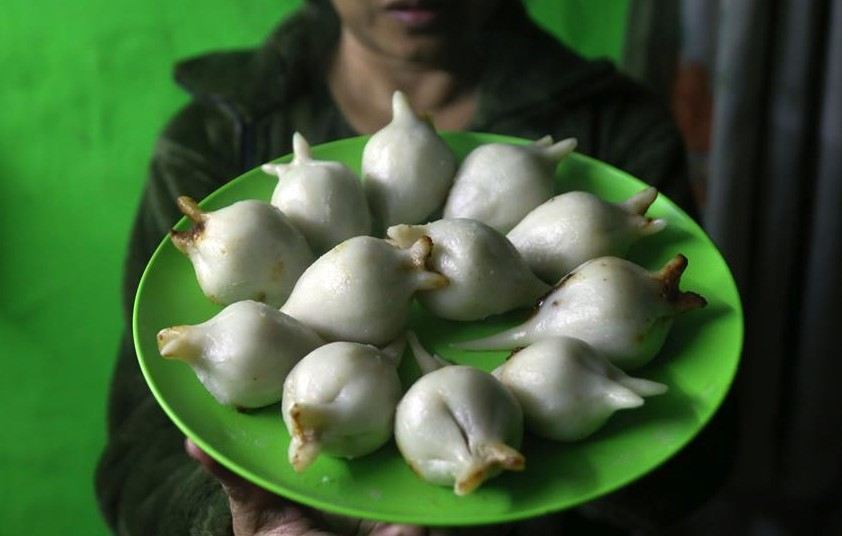yomari: (397, 342, 525, 488), (278, 341, 395, 479), (163, 190, 280, 295), (150, 301, 280, 393), (318, 231, 438, 326), (568, 250, 710, 329), (544, 351, 681, 424), (466, 129, 598, 204), (265, 131, 362, 226), (379, 93, 453, 214), (536, 184, 656, 249)
